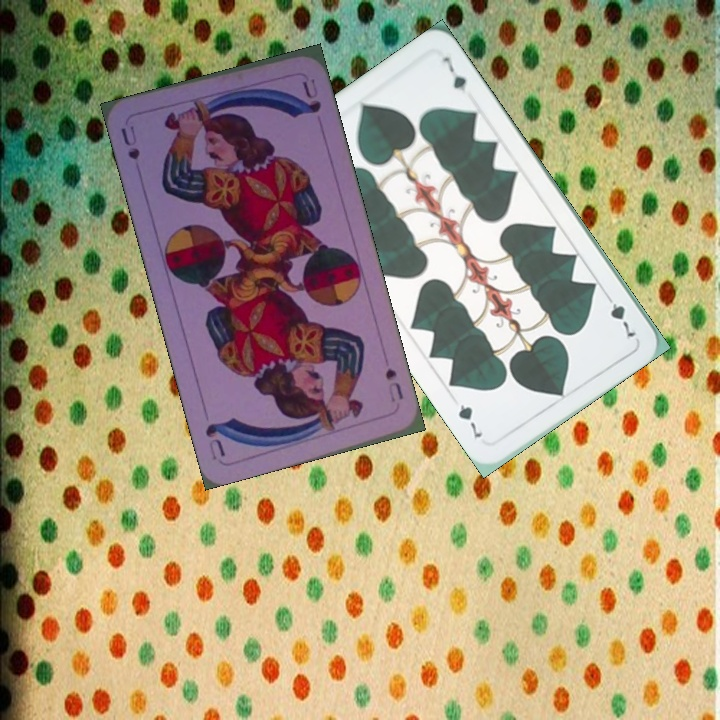G7: (600, 289, 639, 340)
SU: (116, 122, 143, 163), (381, 364, 406, 405)
